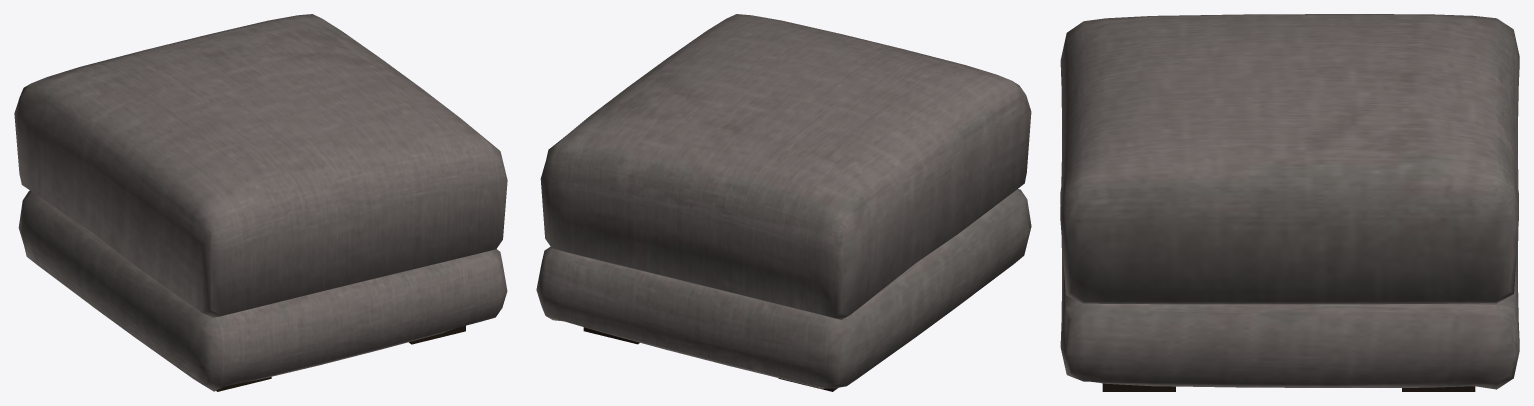
Rendered from stool.glb.
3 views of the same model, side by side, from view 1: azimuth 30°, elevation 25°; view 2: azimuth 150°, elevation 25°; view 3: azimuth 270°, elevation 25° (orthographic). The views are drawn at different scales.
Visible parts, largest first — view 1: g.005, g.003; view 2: g.005, g.003; view 3: g.005, g.003, leg_wood.003.
Boxes of the visible parts, x1=… form: g.005: x1=14, y1=14, x2=507, y2=317; g.003: x1=18, y1=190, x2=507, y2=391; g.005: x1=540, y1=14, x2=1031, y2=319; g.003: x1=536, y1=189, x2=1031, y2=388; g.005: x1=1060, y1=14, x2=1519, y2=304; g.003: x1=1060, y1=187, x2=1519, y2=389; leg_wood.003: x1=1102, y1=383, x2=1175, y2=391.
Bounding box in the file's own units: 0.5677 × 0.3678 × 0.6163.
3 materials, 2 textured.
